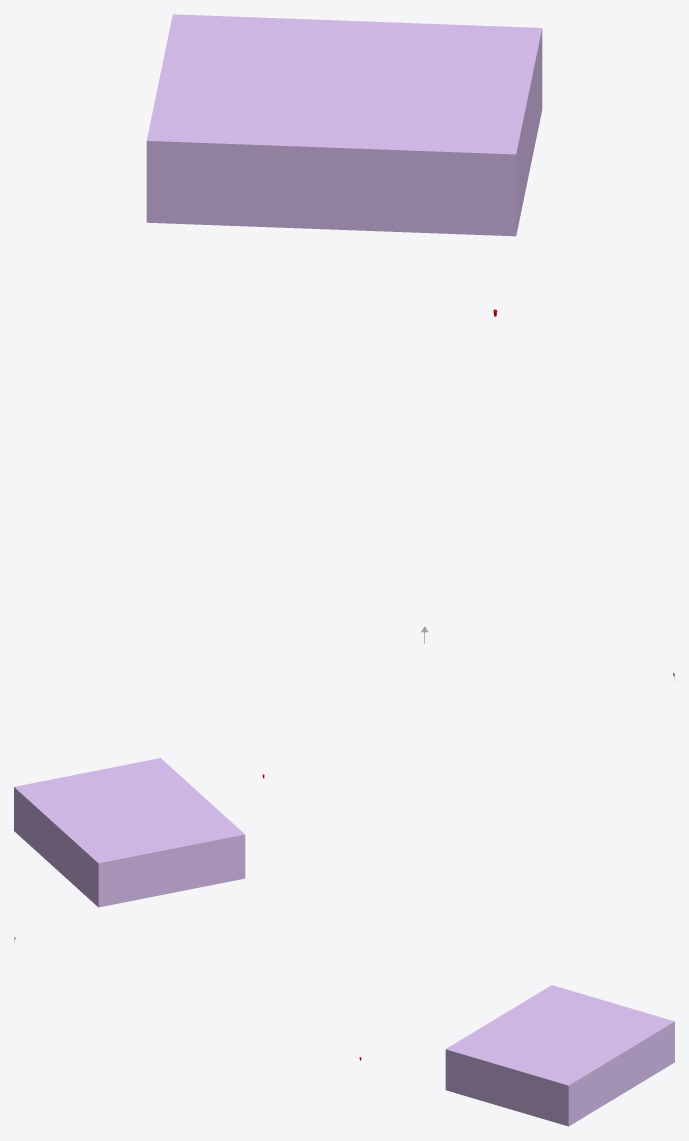
File: 05_objets_3_d.glb
The picture shows the model from 3 angles, top to bottom: view 1: azimuth 30°, elevation 25°; view 2: azimuth 150°, elevation 25°; view 3: azimuth 270°, elevation 25°; orthographic projection. The views are drawn at different scales.
Visible parts, largest first — view 1: 2wIyu1vm1E09W0C01c06W0; view 2: 2wIyu1vm1E09W0C01c06W0; view 3: 2wIyu1vm1E09W0C01c06W0.
Boxes of the visible parts, <box> form: 2wIyu1vm1E09W0C01c06W0: <box>146,14,542,236</box>; 2wIyu1vm1E09W0C01c06W0: <box>14,758,245,907</box>; 2wIyu1vm1E09W0C01c06W0: <box>445,985,674,1126</box>.
Bounding box in the file's own units: 103 × 12 × 176.
